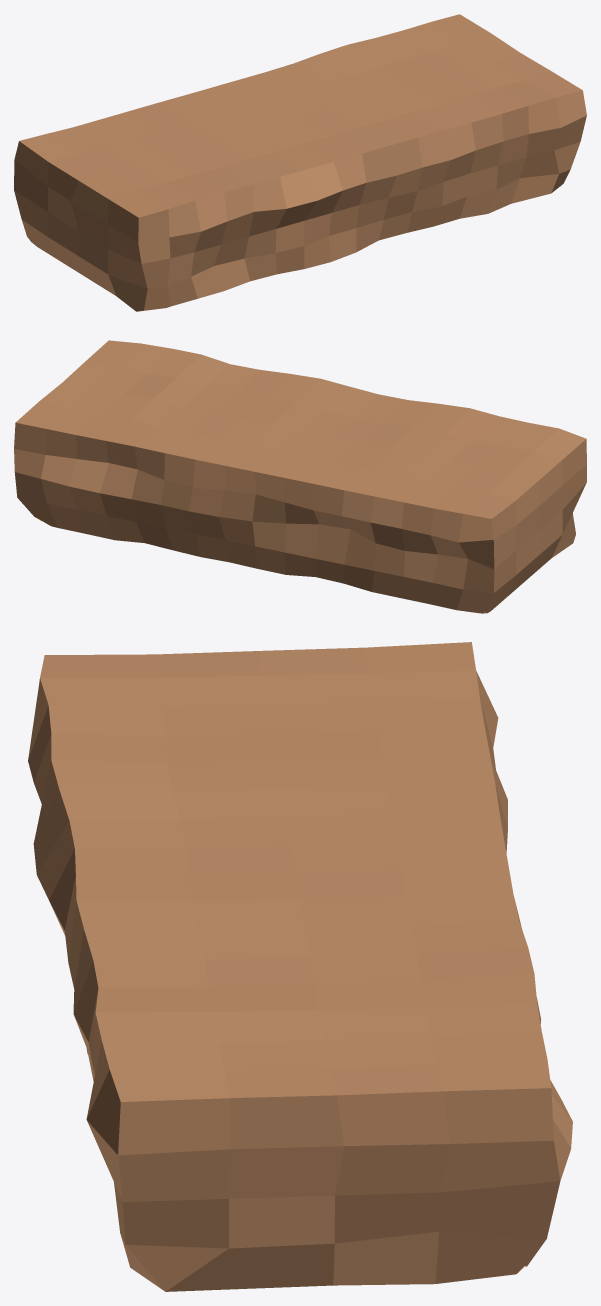
The model's file is kitchen_desk4.0.fbx.
3 views of the same model, one above another, from view 1: azimuth 30°, elevation 25°; view 2: azimuth 150°, elevation 25°; view 3: azimuth 270°, elevation 25° (orthographic). The views are drawn at different scales.
Parts seen in each view (by area): view 1: Cube.056; view 2: Cube.056; view 3: Cube.056.
Boxes of the visible parts, bbox=[...] form: Cube.056: bbox=[14, 14, 586, 311]; Cube.056: bbox=[14, 340, 586, 613]; Cube.056: bbox=[28, 642, 572, 1291].
Bounding box in the file's own units: 1214 × 254 × 600.
